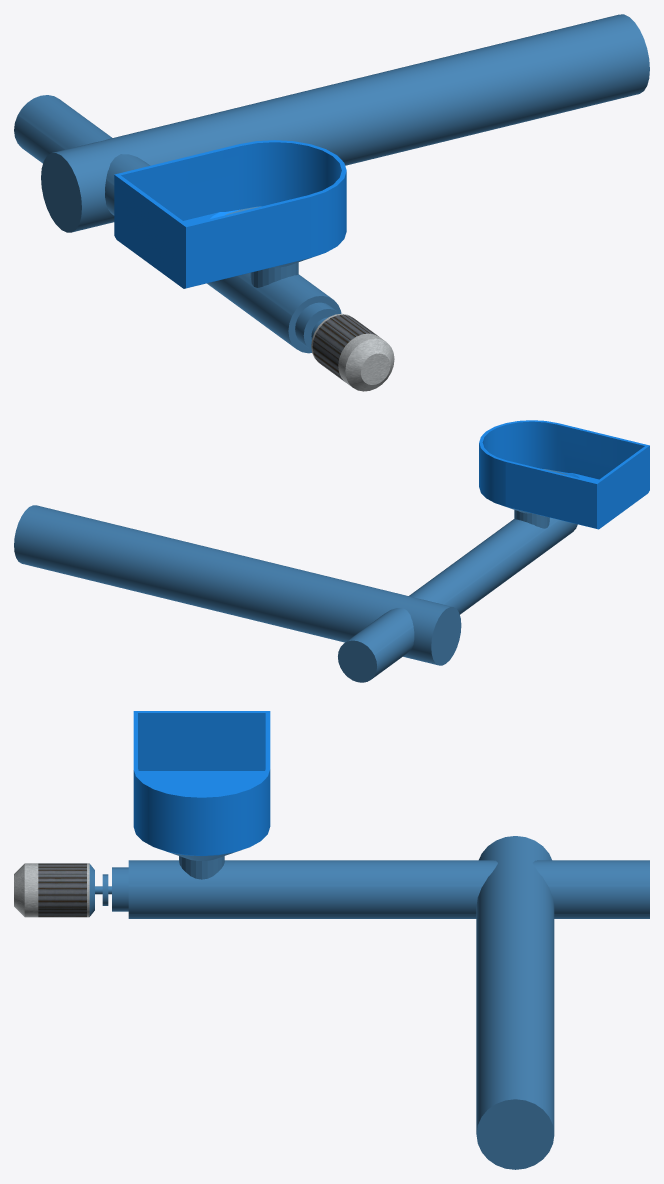
The model's file is 外加籽料.glb.
3 views of the same model, one above another, from view 1: azimuth 30°, elevation 25°; view 2: azimuth 150°, elevation 25°; view 3: azimuth 270°, elevation 25° (orthographic). The views are drawn at different scales.
Visible parts, largest first — view 1: root; view 2: root; view 3: root.
Part boxes in pixels (x1,y1,x2,y2): root: [14, 14, 649, 391]; root: [14, 420, 649, 682]; root: [14, 711, 649, 1169].
Size of the model in its own units: 4.53 by 1.13 by 4.08.
Materials: 4 (2 with a texture image).
